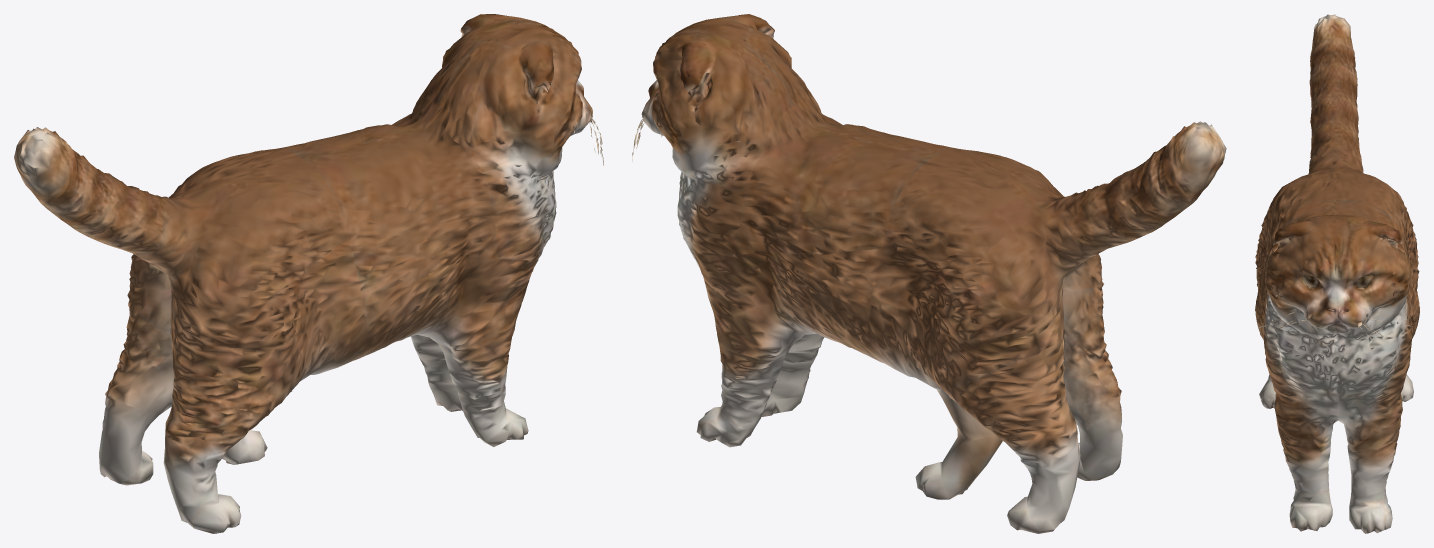
File: MARUOCAT.glb
The picture shows the model from 3 angles, left to right: view 1: azimuth 30°, elevation 25°; view 2: azimuth 150°, elevation 25°; view 3: azimuth 270°, elevation 25°; orthographic projection. The views are drawn at different scales.
Parts seen in each view (by area): view 1: tripo_node_793339e3-be7f-4a73-97ef-052793b3f24d; view 2: tripo_node_793339e3-be7f-4a73-97ef-052793b3f24d; view 3: tripo_node_793339e3-be7f-4a73-97ef-052793b3f24d.
Part boxes in pixels (box(x1,y1,x2,y2)): tripo_node_793339e3-be7f-4a73-97ef-052793b3f24d: box(14, 14, 603, 533); tripo_node_793339e3-be7f-4a73-97ef-052793b3f24d: box(632, 14, 1226, 533); tripo_node_793339e3-be7f-4a73-97ef-052793b3f24d: box(1255, 14, 1419, 533).
Size of the model in its own units: 1.46 by 0.9967 by 0.4486.
Materials: 1 (1 with a texture image).
